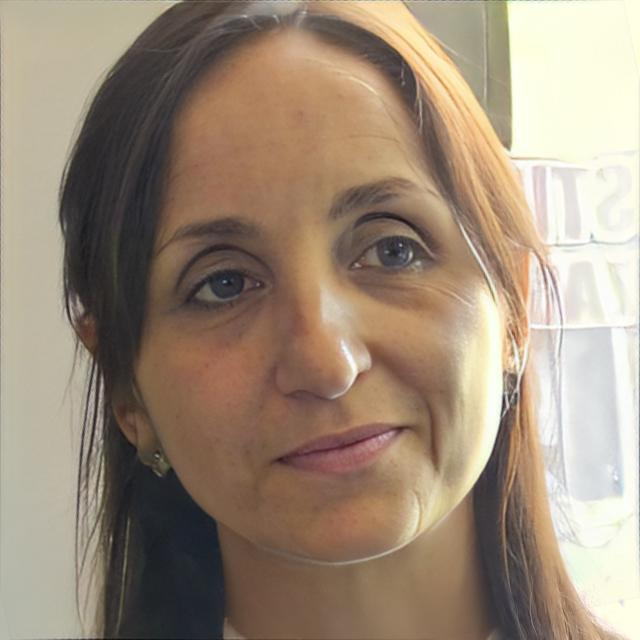content: (130, 31, 498, 564)
